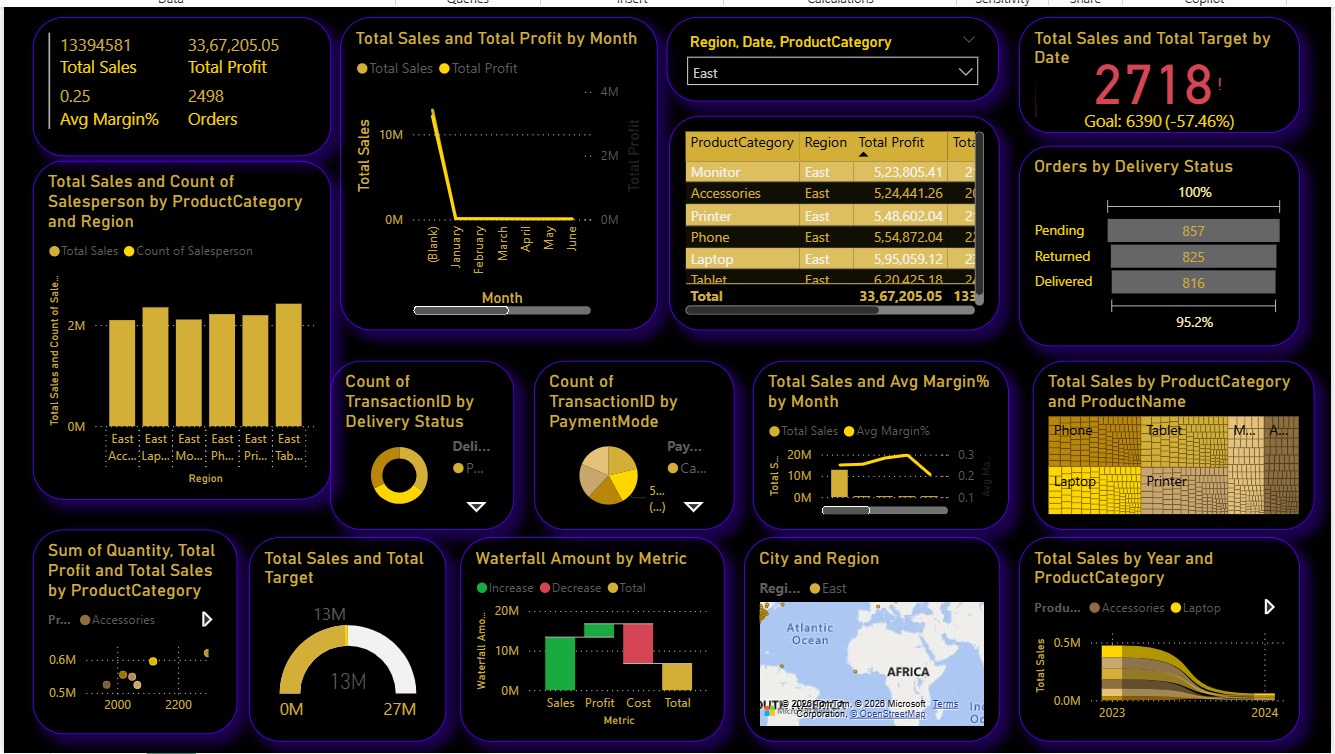

The page's visual inventory and layout, read from the dashboard file:
{"tool":"powerbi","page":{"name":"Page 1","canvas":[1280,720],"ordinal":0},"visuals":[{"type":"multiRowCard","fields":{"Values":["Retail_Sales.Total Sales","Retail_Sales.Total Profit","Retail_Sales.Avg Margin%","Retail_Sales.Orders"]},"box":[27.2,9.7,287.9,134.2],"z":0},{"type":"columnChart","fields":{"Y":["Retail_Sales.Total Sales","CountNonNull(Retail_Sales.Salesperson)"],"Category":["Retail_Sales.ProductCategory","Retail_Sales.Region"]},"box":[27.2,148.8,287.9,326.8],"z":1000},{"type":"lineChart","fields":{"Y":["Retail_Sales.Total Sales"],"Y2":["Retail_Sales.Total Profit"],"Category":["Calendars.Date.Variation.Date Hierarchy.Month"]},"box":[324.9,9.7,306.4,302.5],"z":2000},{"type":"donutChart","fields":{"Category":["Retail_Sales.Delivery Status"],"Y":["CountNonNull(Retail_Sales.TransactionID)"]},"box":[315.1,341.4,178,163.4],"z":3000},{"type":"tableEx","fields":{"Values":["Retail_Sales.ProductCategory","Retail_Sales.Region","Retail_Sales.Total Profit","Retail_Sales.Total Sales","Retail_Sales.Avg Margin%"]},"box":[641.9,105,319,207.2],"z":4000},{"type":"slicer","fields":{"Values":["Retail_Sales.Region","Calendars.Date","Retail_Sales.ProductCategory"]},"box":[640,9.7,321,81.7],"z":5000},{"type":"lineClusteredColumnComboChart","fields":{"Y":["Retail_Sales.Total Sales"],"Y2":["Retail_Sales.Avg Margin%"],"Category":["Calendars.Date.Variation.Date Hierarchy.Month"]},"box":[722.7,341.4,247.1,163.4],"z":6000},{"type":"scatterChart","fields":{"X":["Sum(Retail_Sales.Quantity)"],"Y":["Retail_Sales.Total Profit"],"Size":["Retail_Sales.Total Sales"],"Series":["Retail_Sales.ProductCategory"]},"box":[27.2,504.8,197.4,197.4],"z":7000},{"type":"gauge","fields":{"Y":["Retail_Sales.Total Sales"],"TargetValue":["Retail_Sales.Total Target"]},"box":[236.4,511.6,190.6,197.4],"z":8000},{"type":"waterfallChart","fields":{"Category":["Waterfall Metrics.Metric"],"Y":["Waterfall Metrics.Waterfall Amount"]},"box":[440.6,511.6,254.8,197.4],"z":9000},{"type":"map","fields":{"Category":["Retail_Sales.City"],"Series":["Retail_Sales.Region"]},"box":[713.9,511.6,247.1,197.4],"z":10000},{"type":"funnel","fields":{"Y":["Retail_Sales.Orders"],"Category":["Retail_Sales.Delivery Status"]},"box":[979.5,134.2,271.4,193.6],"z":11000},{"type":"treemap","fields":{"Group":["Retail_Sales.ProductCategory"],"Details":["Retail_Sales.ProductName"],"Values":["Retail_Sales.Total Sales"]},"box":[993.5,341.7,271.7,163.3],"z":12000},{"type":"ribbonChart","fields":{"Series":["Retail_Sales.ProductCategory"],"Y":["Retail_Sales.Total Sales"],"Category":["Calendars.Date.Variation.Date Hierarchy.Year"]},"box":[979.5,511.6,271.4,197.4],"z":13000},{"type":"kpi","fields":{"Indicator":["Retail_Sales.Total Sales"],"Goal":["Retail_Sales.Total Target"],"TrendLine":["Calendars.Date"]},"box":[979.5,9.7,271.4,111.9],"z":14000},{"type":"pieChart","fields":{"Y":["CountNonNull(Retail_Sales.TransactionID)"],"Category":["Retail_Sales.PaymentMode"]},"box":[511.6,341.4,193.6,163.4],"z":15000}]}

Visuals, with their boxes on the page's 1280x720 design canvas (x1, y1, x2, y2). These are canvas units, not pixel positions in the 1335x754 screenshot, which may show the page scaled, cropped or inside an application window:
multiRowCard - Retail_Sales.Total Sales x Retail_Sales.Total Profit: l=27, t=10, r=315, b=144
columnChart - Retail_Sales.Total Sales x CountNonNull(Retail_Sales.Salesperson): l=27, t=149, r=315, b=476
lineChart - Retail_Sales.Total Sales x Retail_Sales.Total Profit: l=325, t=10, r=631, b=312
donutChart - Retail_Sales.Delivery Status x CountNonNull(Retail_Sales.TransactionID): l=315, t=341, r=493, b=505
tableEx - Retail_Sales.ProductCategory x Retail_Sales.Region: l=642, t=105, r=961, b=312
slicer - Retail_Sales.Region x Calendars.Date: l=640, t=10, r=961, b=91
lineClusteredColumnComboChart - Retail_Sales.Total Sales x Retail_Sales.Avg Margin%: l=723, t=341, r=970, b=505
scatterChart - Sum(Retail_Sales.Quantity) x Retail_Sales.Total Profit: l=27, t=505, r=225, b=702
gauge - Retail_Sales.Total Sales x Retail_Sales.Total Target: l=236, t=512, r=427, b=709
waterfallChart - Waterfall Metrics.Metric x Waterfall Metrics.Waterfall Amount: l=441, t=512, r=695, b=709
map - Retail_Sales.City x Retail_Sales.Region: l=714, t=512, r=961, b=709
funnel - Retail_Sales.Orders x Retail_Sales.Delivery Status: l=980, t=134, r=1251, b=328
treemap - Retail_Sales.ProductCategory x Retail_Sales.ProductName: l=994, t=342, r=1265, b=505
ribbonChart - Retail_Sales.ProductCategory x Retail_Sales.Total Sales: l=980, t=512, r=1251, b=709
kpi - Retail_Sales.Total Sales x Retail_Sales.Total Target: l=980, t=10, r=1251, b=122
pieChart - CountNonNull(Retail_Sales.TransactionID) x Retail_Sales.PaymentMode: l=512, t=341, r=705, b=505
